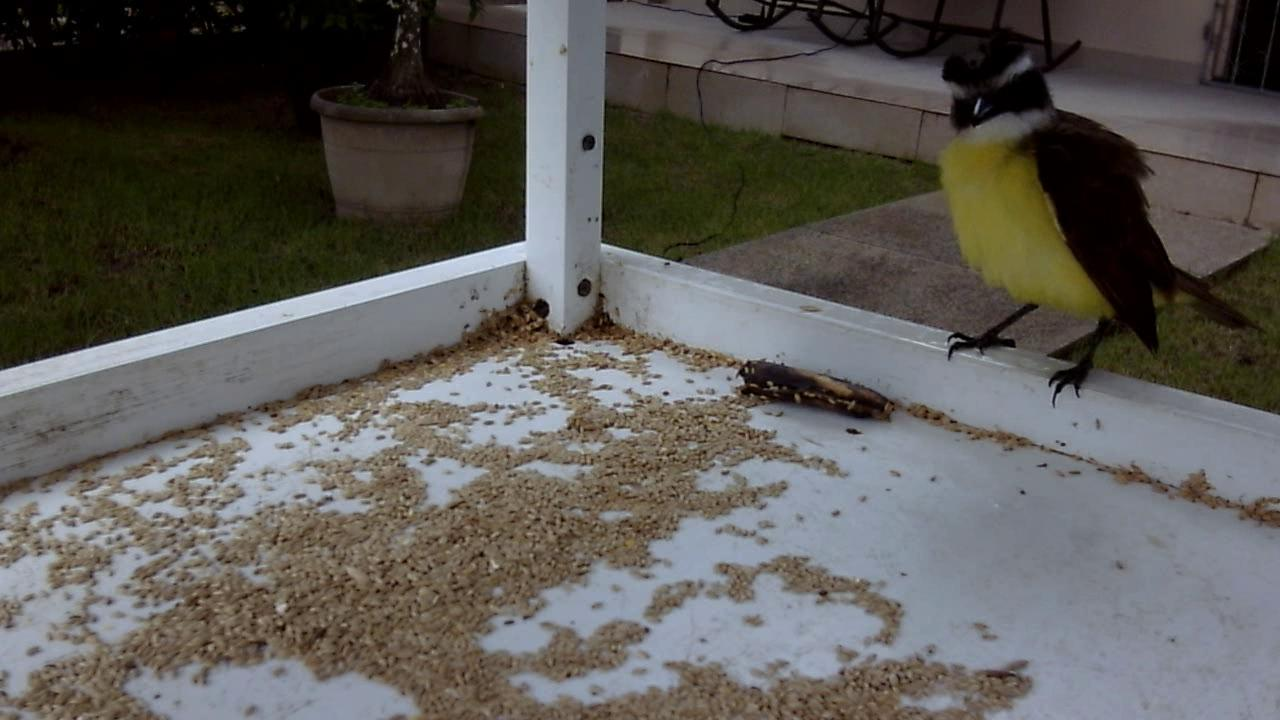bem_te_vi: (911, 37, 1261, 419)
